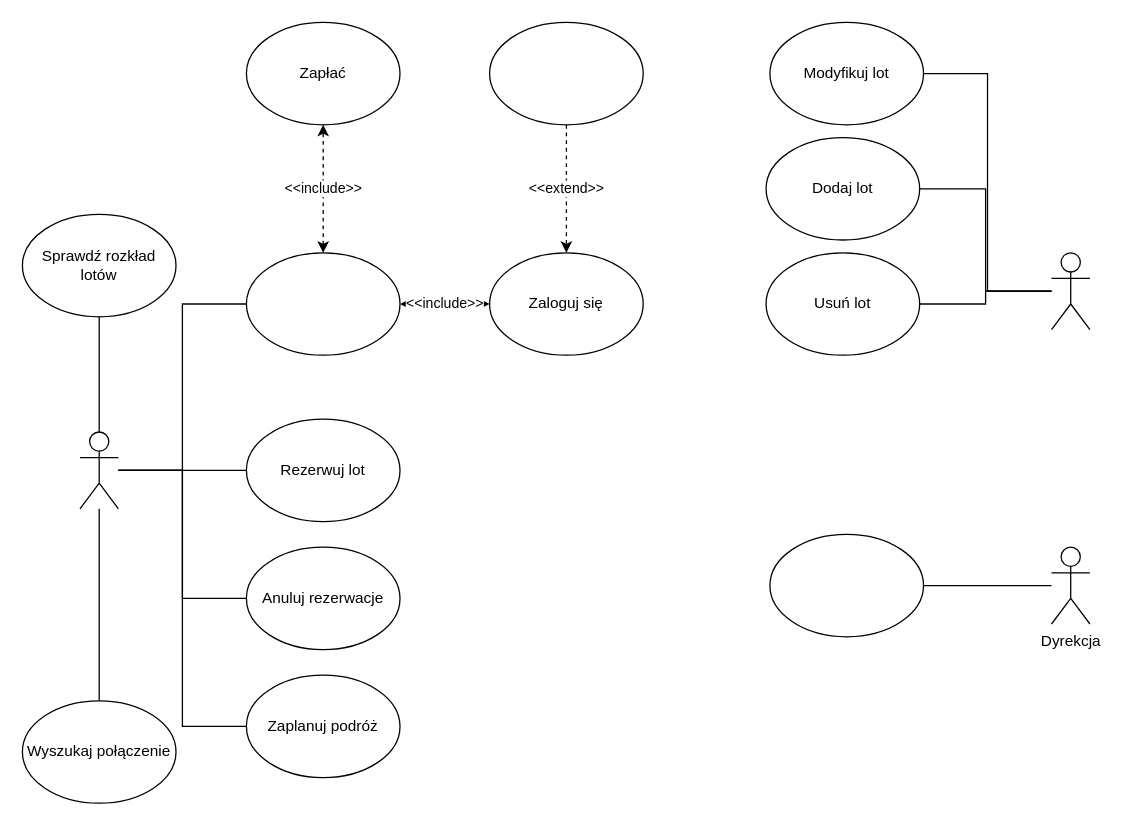
The diagram is 1128 pixels wide and 826 high, and some of its shapes have lost their labels. Here are the shapes that lost their labels. From the top down, the centre of each, then its label:
At (x=565, y=73): "Załóż konto".
At (x=322, y=303): "Kup bilet".
At (x=1070, y=291): "Pracownik".
At (x=98, y=470): "Użytkownik".
At (x=846, y=585): "Statystyki".
